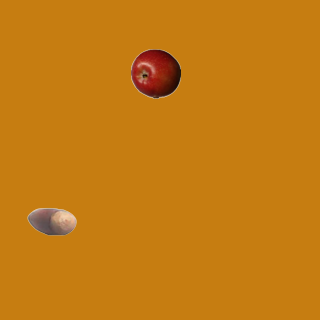Apple Braeburn: (130, 48, 180, 98)
Hazelnut: (26, 196, 76, 246)
